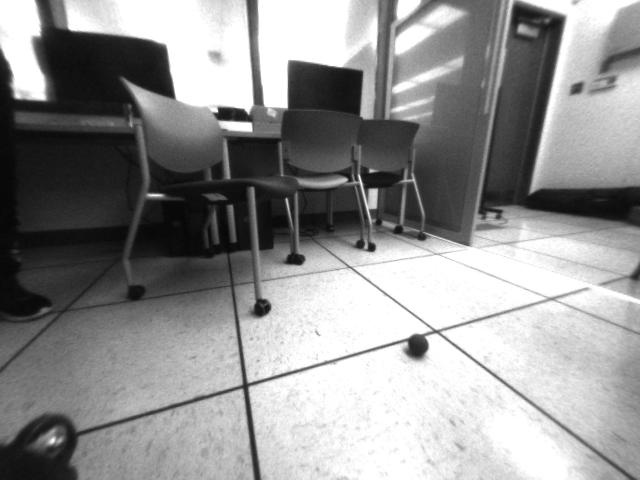dogtoy: (398, 328, 438, 362)
